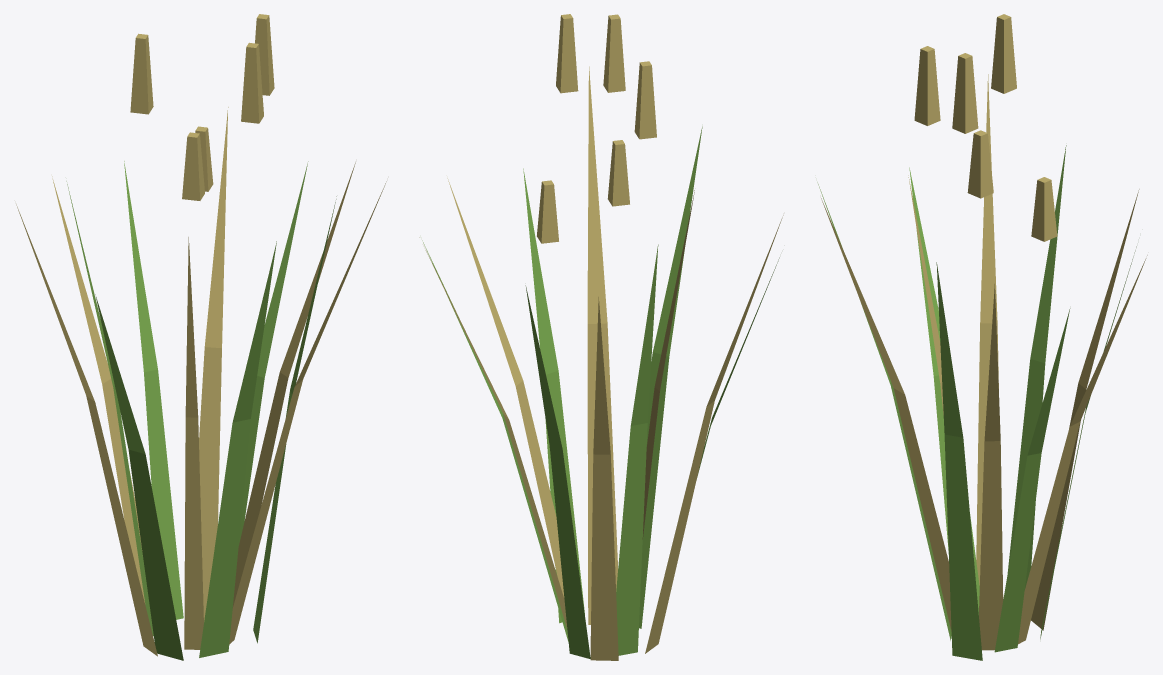
File: grass_10.glb
3 views of the same model, side by side, from view 1: azimuth 30°, elevation 25°; view 2: azimuth 150°, elevation 25°; view 3: azimuth 270°, elevation 25° (orthographic). The views are drawn at different scales.
Visible parts, largest first — view 1: 草_10; view 2: 草_10; view 3: 草_10.
Boxes of the visible parts, box(x1,y1,x2,y2) form: 草_10: box(16, 14, 386, 660); 草_10: box(419, 14, 783, 660); 草_10: box(817, 14, 1147, 660).
Bounding box in the file's own units: 0.6589 × 1.13 × 0.563.
